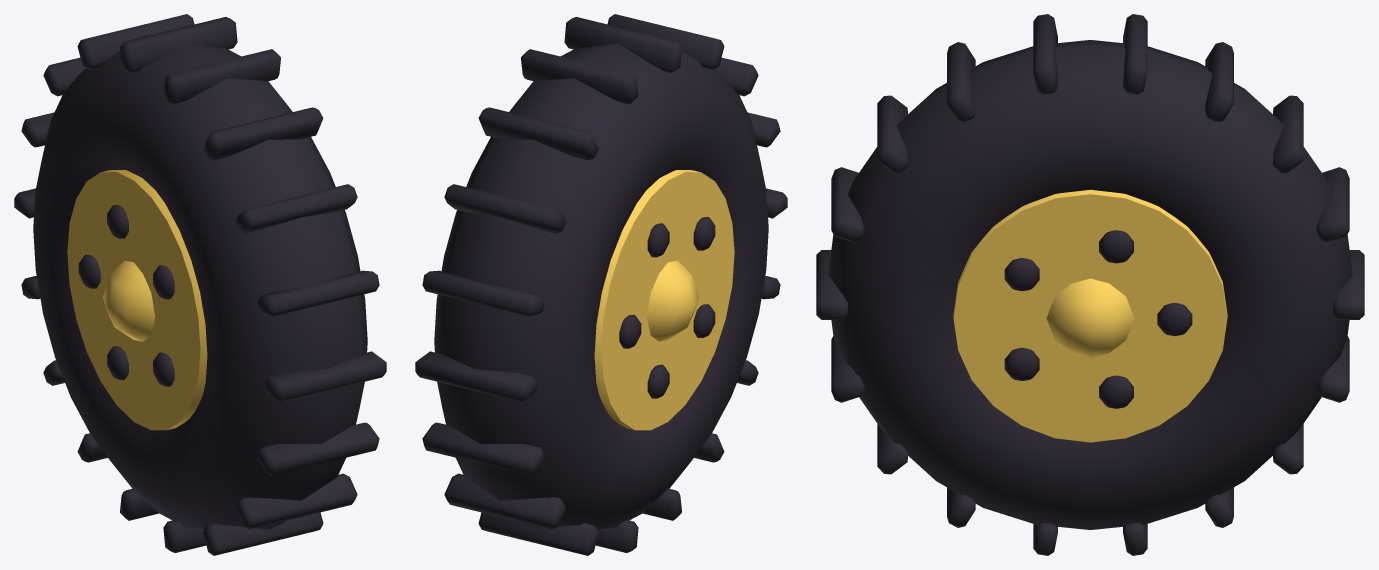
File: wheel_basic.glb
3 renders of one model, left to right at view 1: azimuth 30°, elevation 25°; view 2: azimuth 150°, elevation 25°; view 3: azimuth 270°, elevation 25°, orthographic. The views are drawn at different scales.
Parts seen in each view (by area): view 1: wheel_basic; view 2: wheel_basic; view 3: wheel_basic.
Boxes of the visible parts, x1,y1,x2,y2 form: wheel_basic: [14, 14, 386, 555]; wheel_basic: [415, 14, 787, 555]; wheel_basic: [816, 14, 1364, 555].
Size of the model in its own units: 0.84 by 2.06 by 2.08.
